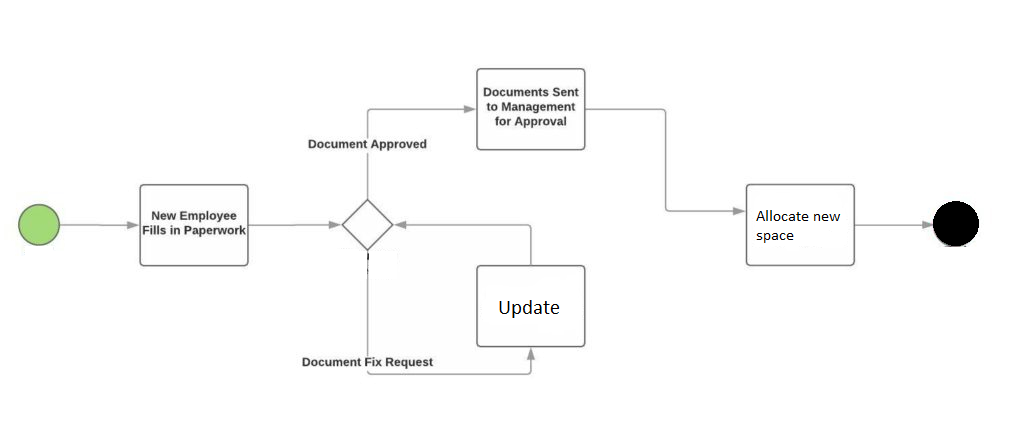arrow: (363, 249, 539, 379), (584, 103, 747, 218), (363, 100, 476, 203), (392, 217, 536, 266), (852, 219, 932, 232), (59, 219, 140, 231), (246, 220, 341, 229)
connection: (930, 198, 981, 249), (15, 202, 64, 247)
decision: (336, 198, 396, 252)
process: (743, 180, 860, 270), (472, 64, 589, 153), (472, 261, 588, 350), (136, 182, 253, 268)
text: (482, 84, 581, 129), (138, 209, 244, 240), (752, 207, 842, 243), (305, 134, 430, 152), (299, 355, 435, 371), (497, 298, 562, 321)
